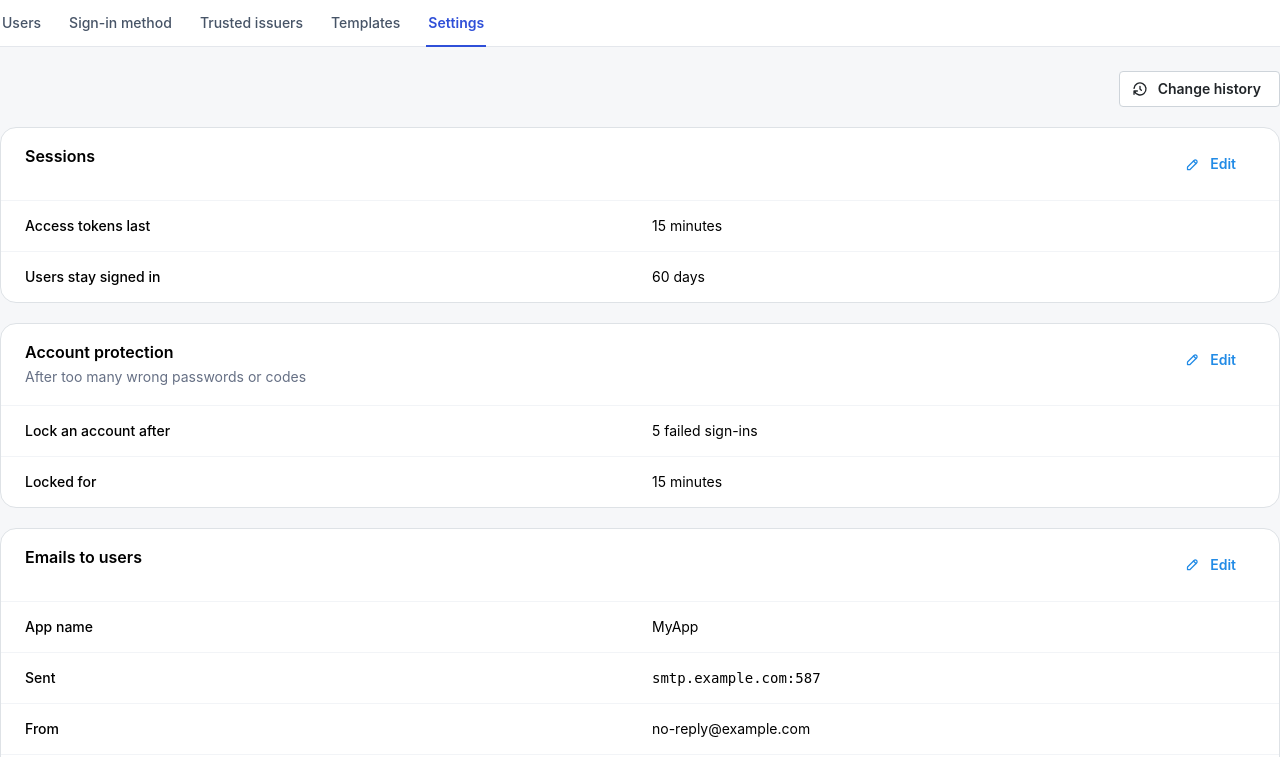
Test: sign-in settings: a saved SMTP password is never shown
Click the button "Edit" in the row of "Emails to users" at (1214, 565), box [1172, 547, 1255, 583]
(page scrolled)
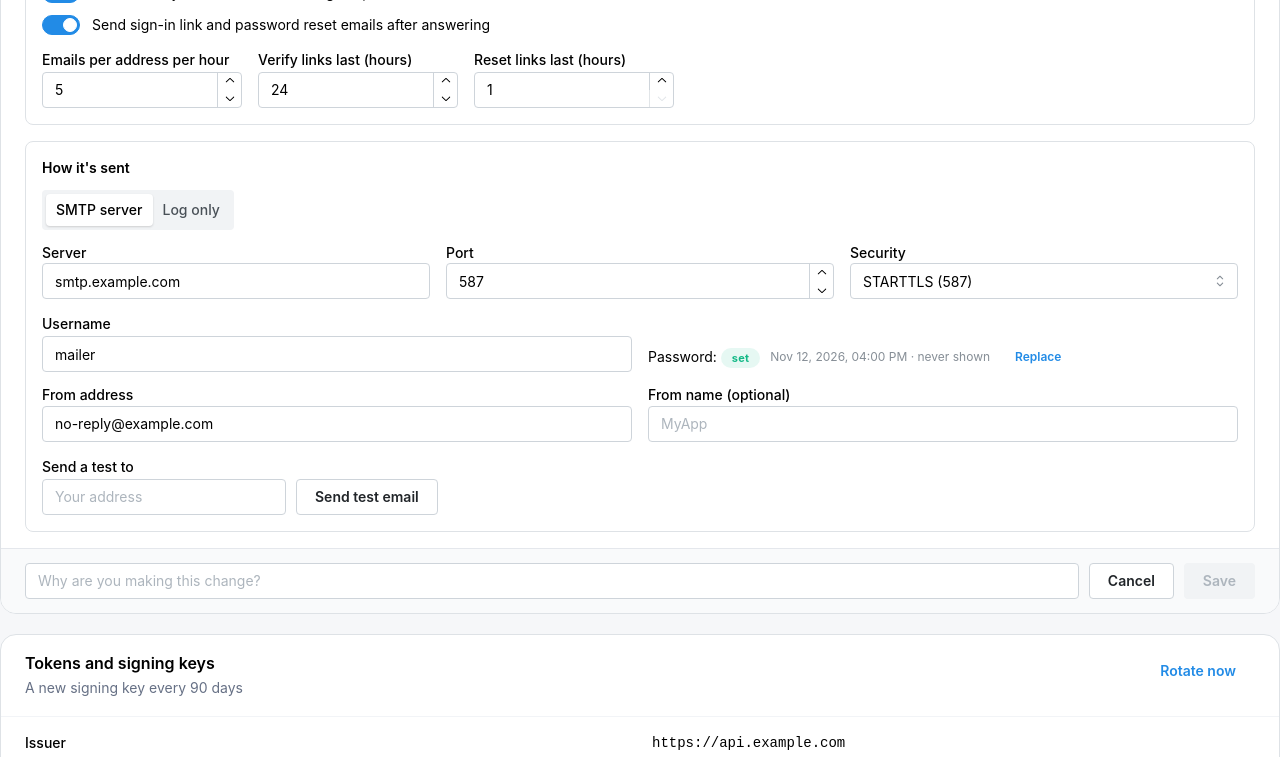
Result: the element with test id "smtp-password-set" shows "never shown" at [907, 349, 990, 364]
